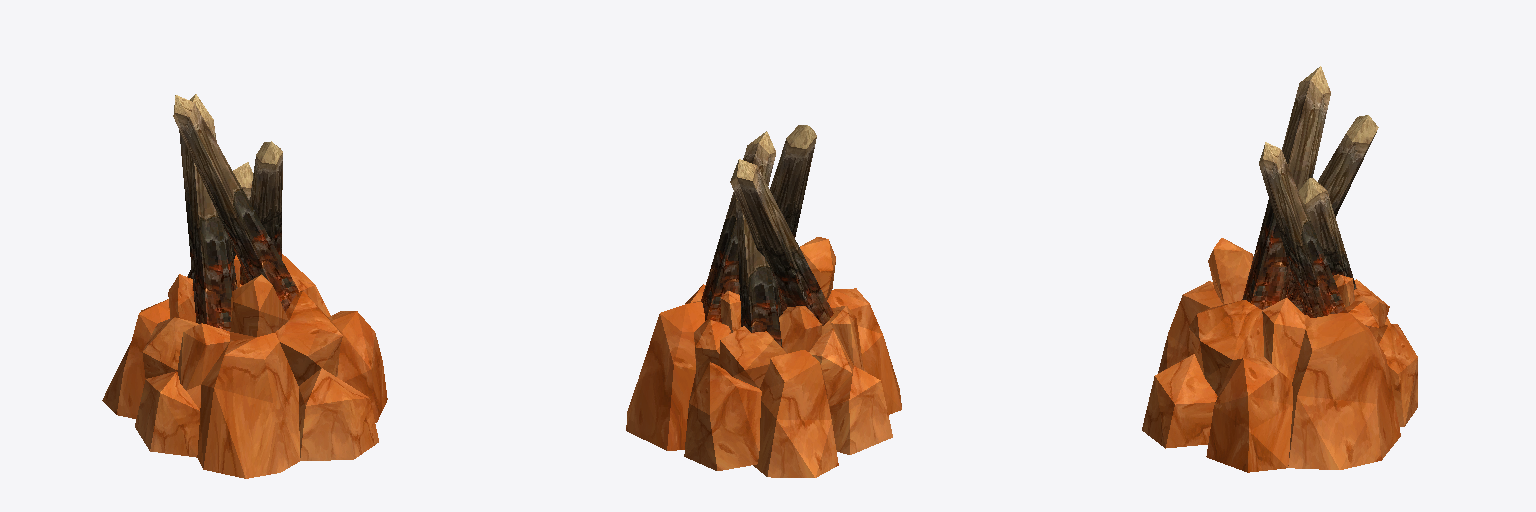
3 views of the same model, side by side, from view 1: azimuth 30°, elevation 25°; view 2: azimuth 150°, elevation 25°; view 3: azimuth 270°, elevation 25° (orthographic).
Parts seen in each view (by area): view 1: OrcBrazierLamppost01; view 2: OrcBrazierLamppost01; view 3: OrcBrazierLamppost01.
Part boxes in pixels (bbox=[...]): OrcBrazierLamppost01: bbox=[102, 94, 387, 478]; OrcBrazierLamppost01: bbox=[626, 125, 901, 477]; OrcBrazierLamppost01: bbox=[1142, 66, 1417, 472].
Size of the model in its own units: 2.99 by 3.98 by 3.1.
1 materials, 1 textured.